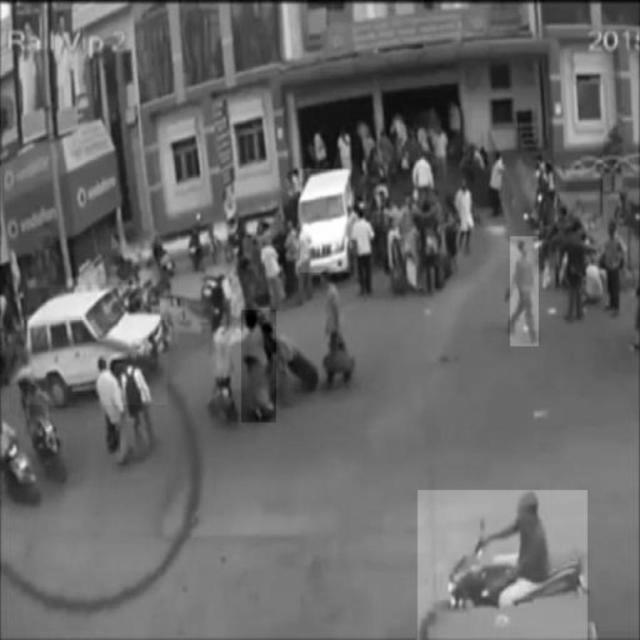person: (94, 356, 132, 464), (242, 310, 277, 422), (510, 237, 538, 347)
vehicle: (418, 490, 588, 640), (28, 285, 168, 405), (300, 169, 351, 272)
